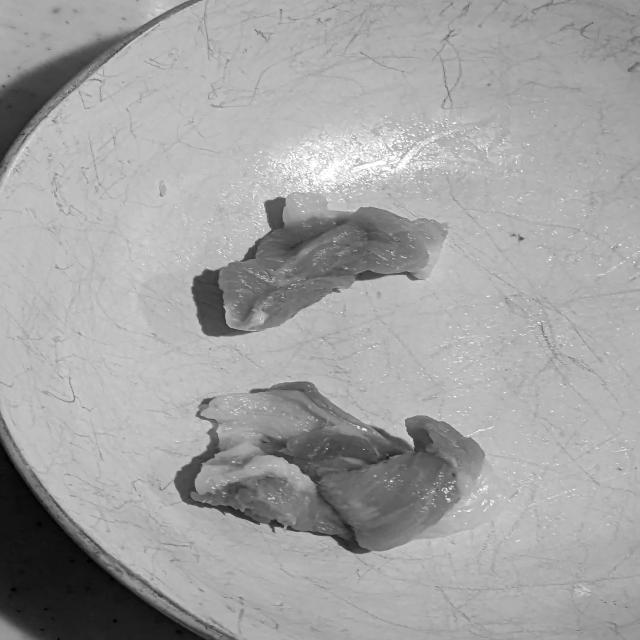NG raw pork,: (166, 375, 525, 559), (209, 188, 464, 344)
